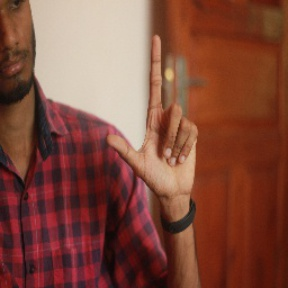L: (106, 35, 202, 195)
